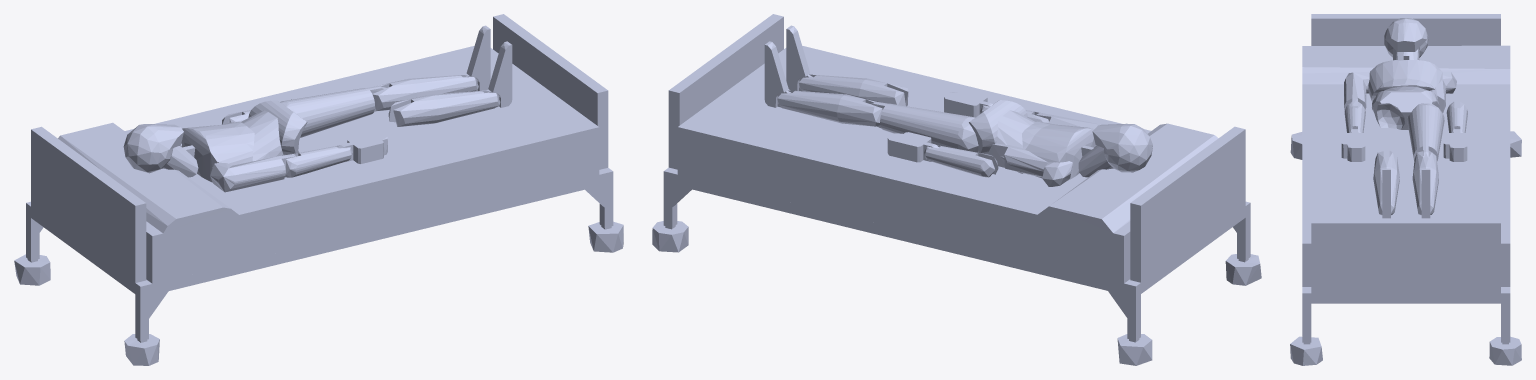
The model's file is bed_and_body_v2_low_res.dae.
3 renders of one model, left to right at view 1: azimuth 30°, elevation 25°; view 2: azimuth 150°, elevation 25°; view 3: azimuth 270°, elevation 25°, orthographic. The views are drawn at different scales.
Parts seen in each view (by area): view 1: bed_frame_link, leg_rest_lower_link, head_rest_link, leg_rest_upper_link, upper_body_link, base_link, quad_left_link, calf_right_link, head_link, calf_left_link, arm_right_link, lower_body_link (+6 smaller); view 2: bed_frame_link, leg_rest_lower_link, head_rest_link, leg_rest_upper_link, quad_left_link, base_link, calf_left_link, upper_body_link, head_link, calf_right_link, arm_left_link, forearm_left_link (+7 smaller); view 3: bed_frame_link, head_rest_link, leg_rest_lower_link, leg_rest_upper_link, base_link, upper_body_link, lower_body_link, quad_left_link, head_link, calf_left_link, calf_right_link, arm_right_link (+8 smaller).
Part boxes in pixels (x1=…): bed_frame_link: x1=26, y1=14, x2=613, y2=341; leg_rest_lower_link: x1=335, y1=46, x2=599, y2=210; head_rest_link: x1=58, y1=114, x2=308, y2=283; leg_rest_upper_link: x1=255, y1=80, x2=449, y2=230; upper_body_link: x1=181, y1=122, x2=254, y2=182; base_link: x1=14, y1=221, x2=623, y2=365; quad_left_link: x1=280, y1=86, x2=386, y2=137; calf_right_link: x1=388, y1=90, x2=500, y2=126; head_link: x1=123, y1=124, x2=183, y2=173; calf_left_link: x1=372, y1=74, x2=478, y2=111; arm_right_link: x1=210, y1=154, x2=295, y2=192; lower_body_link: x1=248, y1=100, x2=307, y2=155; bed_frame_link: x1=663, y1=14, x2=1250, y2=340; leg_rest_lower_link: x1=677, y1=46, x2=941, y2=210; head_rest_link: x1=968, y1=114, x2=1218, y2=283; leg_rest_upper_link: x1=827, y1=80, x2=1021, y2=230; quad_left_link: x1=870, y1=101, x2=978, y2=152; base_link: x1=652, y1=221, x2=1261, y2=365; calf_left_link: x1=777, y1=90, x2=882, y2=126; upper_body_link: x1=1022, y1=121, x2=1096, y2=180; head_link: x1=1092, y1=123, x2=1152, y2=172; calf_right_link: x1=798, y1=74, x2=908, y2=106; arm_left_link: x1=988, y1=143, x2=1072, y2=186; forearm_left_link: x1=924, y1=145, x2=998, y2=177; bed_frame_link: x1=1302, y1=14, x2=1510, y2=342; head_rest_link: x1=1302, y1=45, x2=1510, y2=114; leg_rest_lower_link: x1=1302, y1=177, x2=1510, y2=286; leg_rest_upper_link: x1=1302, y1=142, x2=1510, y2=177; base_link: x1=1290, y1=131, x2=1521, y2=365; upper_body_link: x1=1368, y1=60, x2=1442, y2=102; lower_body_link: x1=1373, y1=90, x2=1439, y2=129; quad_left_link: x1=1407, y1=103, x2=1444, y2=161; head_link: x1=1384, y1=18, x2=1428, y2=57; calf_left_link: x1=1412, y1=150, x2=1438, y2=215; calf_right_link: x1=1373, y1=151, x2=1399, y2=215; arm_right_link: x1=1344, y1=71, x2=1369, y2=110.
Bounding box in the file's own units: 2.28 × 1.02 × 0.8073.
